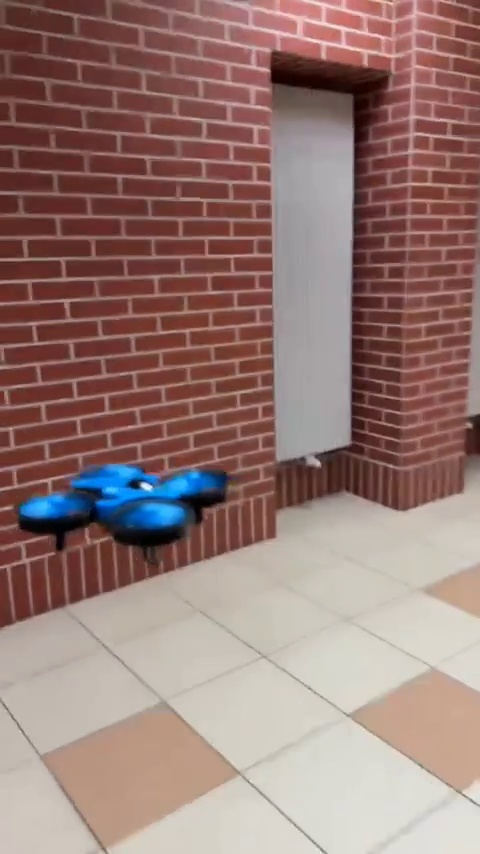drone: (18, 464, 230, 559)
